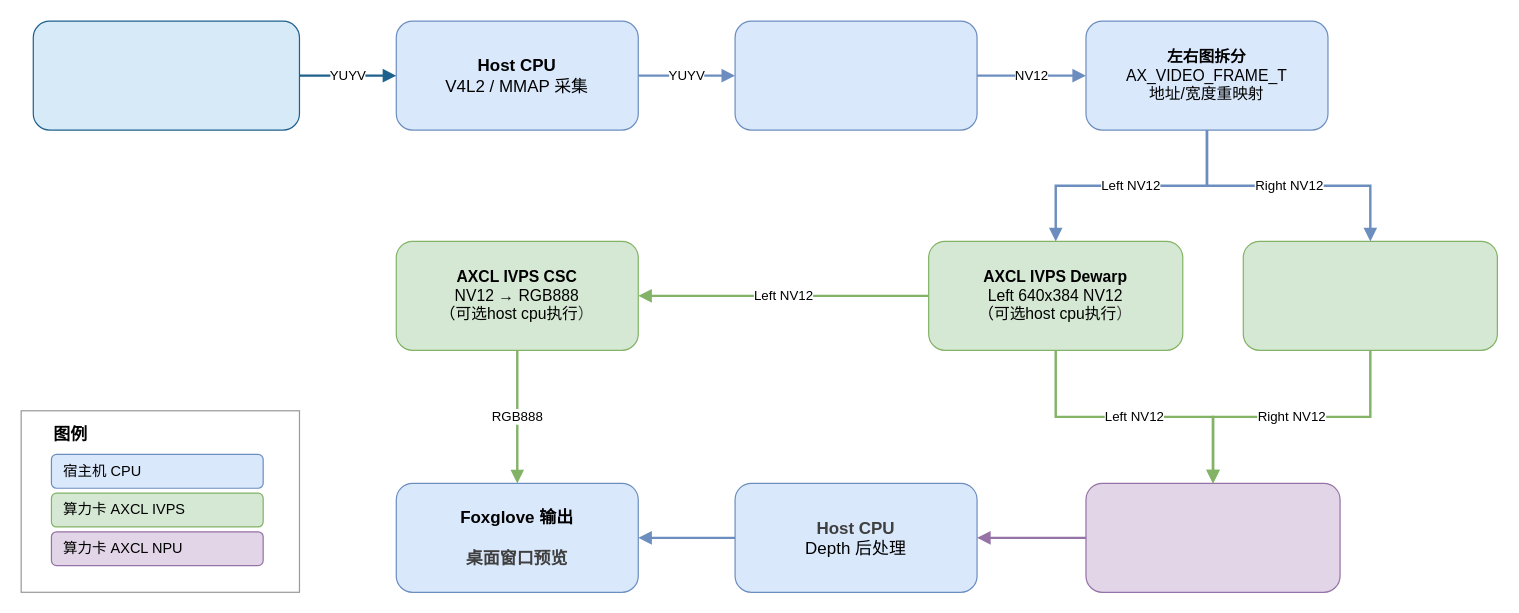
Some shapes in this 1519 by 613 pixel diagram are drawn without their labels. Each missing label, with the centre of its shape:
AXCL IVPS Dewarp Right 640x384 NV12 （可选host cpu执行 ）: (x=1369, y=295)
AXCL NPU disparity / confidence: (x=1212, y=537)
Host CPU YUYV → NV12: (x=855, y=75)
UVC 双摄模组 YUYV side-by-side 2560x720 / 3840x1080: (x=165, y=75)
